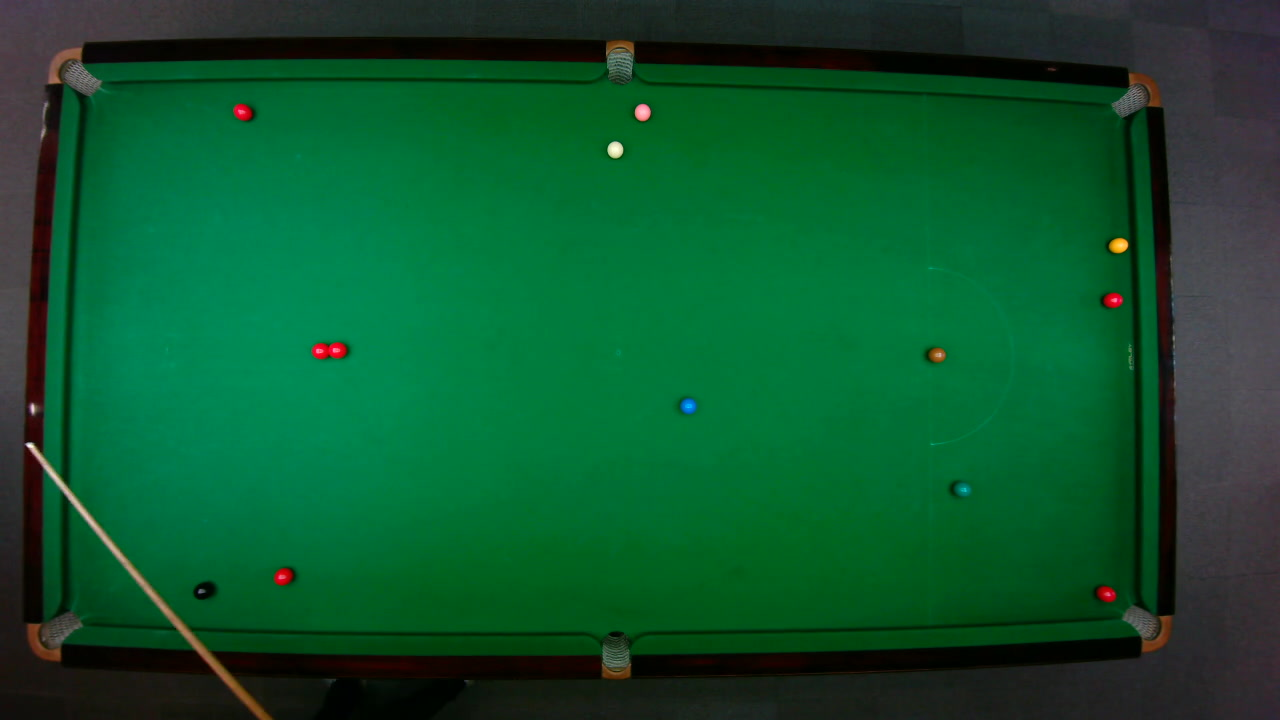bag: (25, 609, 84, 661), (45, 46, 102, 96), (1119, 603, 1172, 652), (1108, 71, 1161, 117), (601, 629, 630, 680), (605, 38, 633, 85)
black: (192, 581, 213, 600)
blue: (678, 396, 697, 414)
brown: (926, 346, 946, 362)
cue: (21, 437, 269, 719)
green: (951, 480, 972, 497)
pink: (632, 102, 651, 121)
red: (272, 565, 294, 586), (325, 340, 347, 359), (1094, 584, 1117, 602), (232, 102, 253, 121), (310, 341, 331, 359), (1101, 291, 1123, 308)
white: (605, 139, 624, 159)
yellow: (1107, 236, 1129, 253)
zone: (927, 266, 1013, 445)
